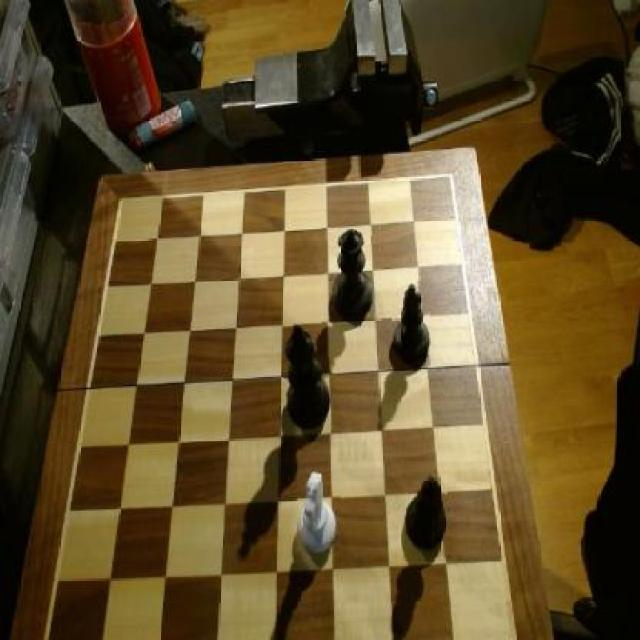bishop: (405, 475, 447, 561), (391, 280, 432, 368)
black-bishop: (284, 320, 334, 434)
black-pawn: (331, 226, 376, 325)
white-king: (297, 469, 340, 560)
